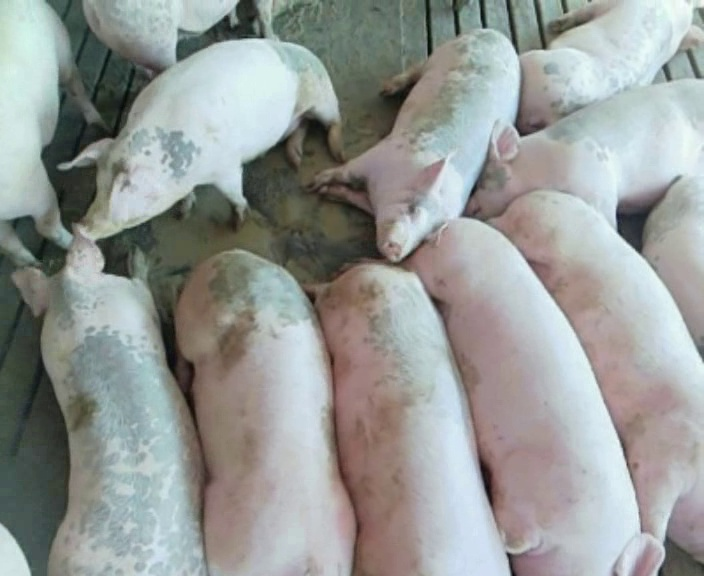pig: (406, 219, 663, 574), (490, 192, 703, 562), (14, 234, 204, 573), (300, 263, 507, 574), (175, 250, 355, 574), (59, 39, 339, 240), (313, 29, 519, 261), (466, 80, 703, 226), (517, 0, 703, 133), (642, 176, 703, 351)
